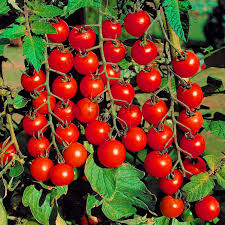tomato: (140, 96, 169, 124), (144, 149, 174, 176), (78, 74, 109, 100), (123, 9, 152, 36), (45, 46, 74, 73), (180, 132, 208, 158), (98, 140, 126, 166), (20, 68, 48, 94), (70, 22, 93, 53), (135, 66, 162, 92), (172, 51, 199, 77), (84, 118, 111, 144), (61, 140, 88, 166), (120, 126, 148, 151), (177, 81, 201, 110), (130, 38, 156, 64), (196, 194, 222, 220), (52, 74, 78, 100), (149, 123, 173, 151), (29, 91, 59, 113), (157, 169, 182, 195), (158, 194, 185, 217), (180, 155, 208, 177), (117, 104, 141, 129), (30, 156, 53, 182), (21, 112, 49, 133), (75, 51, 99, 75), (45, 17, 68, 42), (109, 82, 135, 104), (50, 163, 73, 187), (181, 108, 203, 133), (26, 134, 52, 155), (79, 96, 99, 122), (100, 18, 123, 40), (103, 39, 126, 61), (53, 98, 75, 119), (55, 120, 75, 143), (101, 63, 120, 82)
